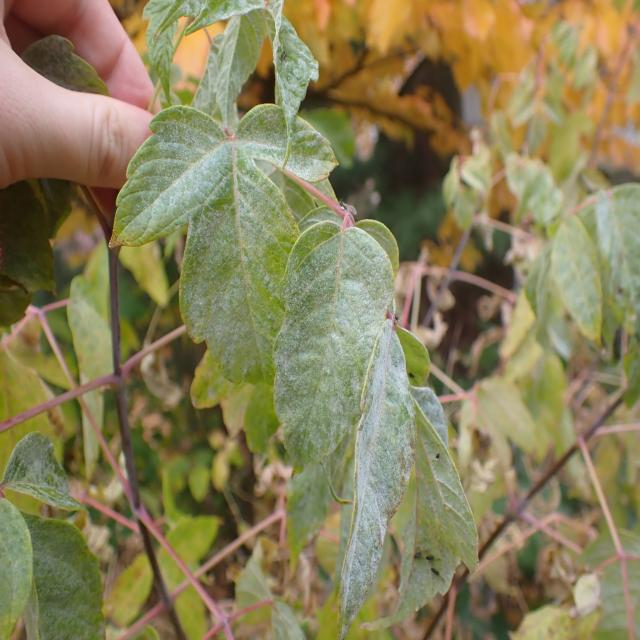powdery_mildew: (112, 105, 299, 382), (274, 221, 393, 465), (431, 567, 439, 575)
